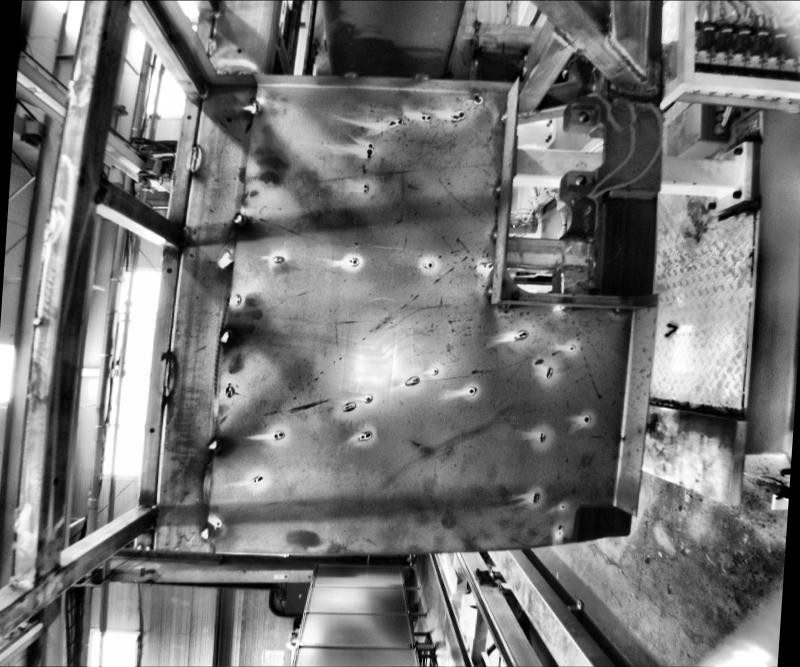hole: (572, 172, 586, 186), (578, 112, 594, 124), (234, 45, 246, 53), (165, 267, 175, 273), (226, 117, 234, 123), (150, 427, 156, 433), (190, 114, 194, 118)
welding: (606, 40, 646, 78), (552, 27, 576, 53), (164, 355, 176, 402), (210, 434, 226, 456), (234, 211, 250, 229), (206, 34, 218, 58), (190, 142, 200, 170), (249, 99, 261, 116), (414, 71, 432, 81), (494, 180, 506, 194), (222, 330, 234, 344), (180, 228, 188, 248), (499, 110, 512, 122), (612, 306, 630, 314), (202, 526, 214, 538), (553, 304, 573, 310), (490, 226, 500, 238), (346, 72, 358, 78), (487, 286, 493, 297), (498, 304, 508, 308)
